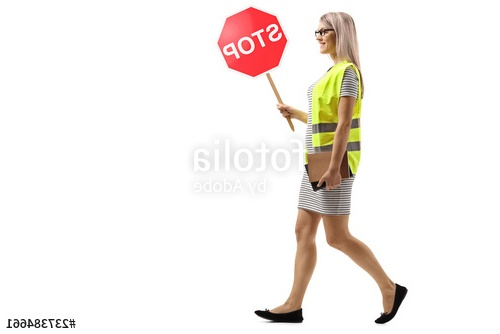NoHardhat: (300, 11, 364, 182)
